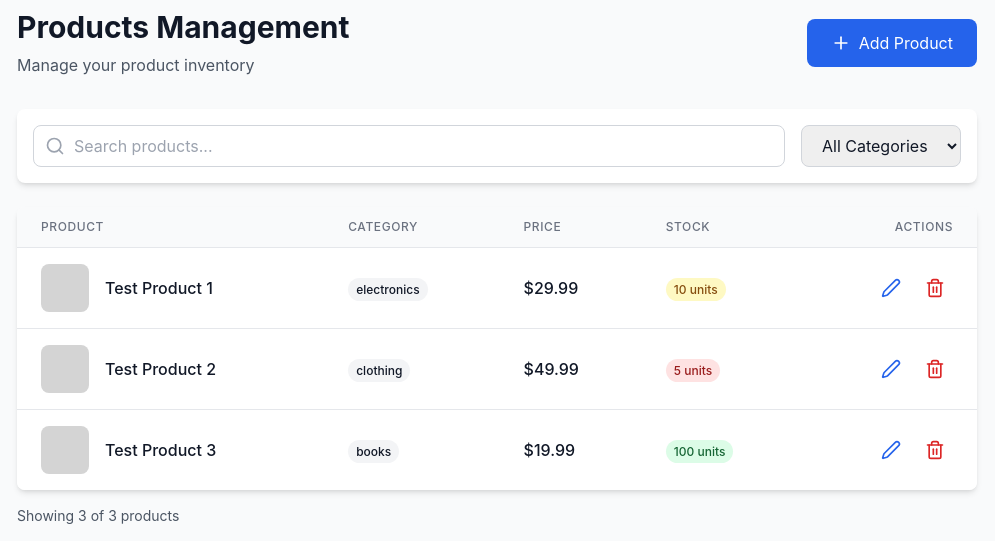
AdminProducts › filters products by search term
Expected: the text "Test Product 1" is shown, x1=105 y1=276 x2=213 y2=300
Type "Product 1" into the field with placeholder "Search products...".
click(409, 146); type("Product 1")  # box x1=33 y1=125 x2=785 y2=167
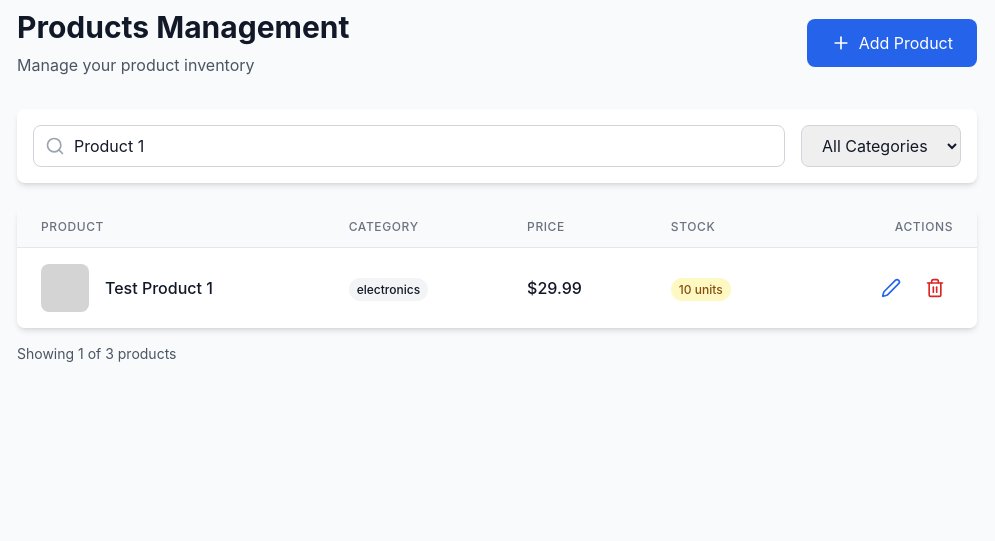
Expected: the text "Test Product 1" is shown, x1=105 y1=276 x2=213 y2=300
Expected: the text "Test Product 2" is gone
Expected: the text "Test Product 3" is gone
